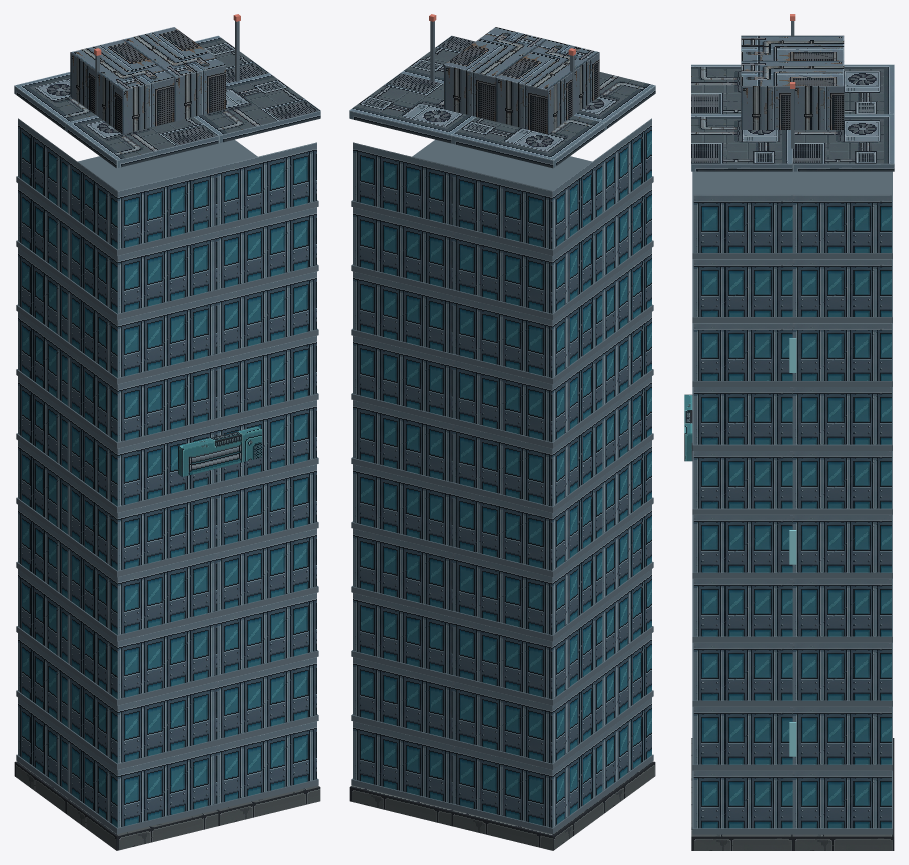
File: tower_distant.glb
3 views of the same model, side by side, from view 1: azimuth 30°, elevation 25°; view 2: azimuth 150°, elevation 25°; view 3: azimuth 270°, elevation 25° (orthographic).
Visible parts, largest first — view 1: tower_distant; view 2: tower_distant; view 3: tower_distant.
Part boxes in pixels (<box>): tower_distant: <box>14,14,320,850</box>; tower_distant: <box>349,14,655,850</box>; tower_distant: <box>684,14,894,850</box>.
Size of the model in its own units: 5.32 by 18.83 by 4.77.
5 materials, 2 textured.
